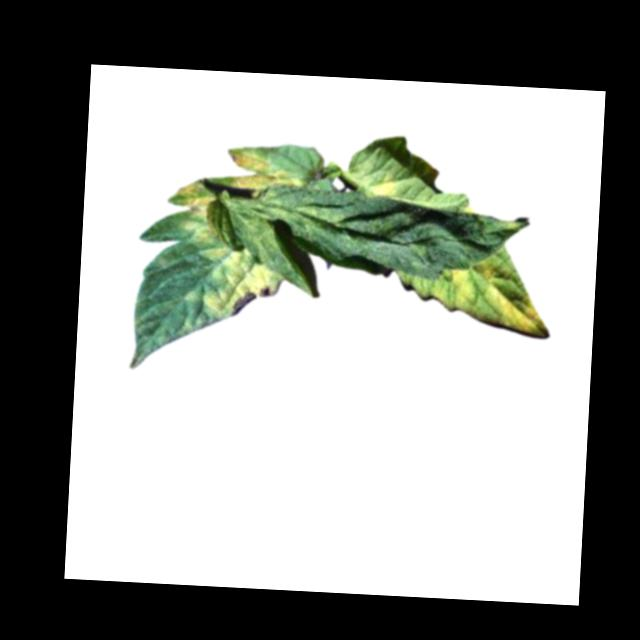Leaf_Mold: (429, 258, 553, 339), (225, 190, 346, 263), (195, 242, 286, 320), (223, 145, 306, 196), (170, 177, 221, 243), (365, 169, 396, 200)
